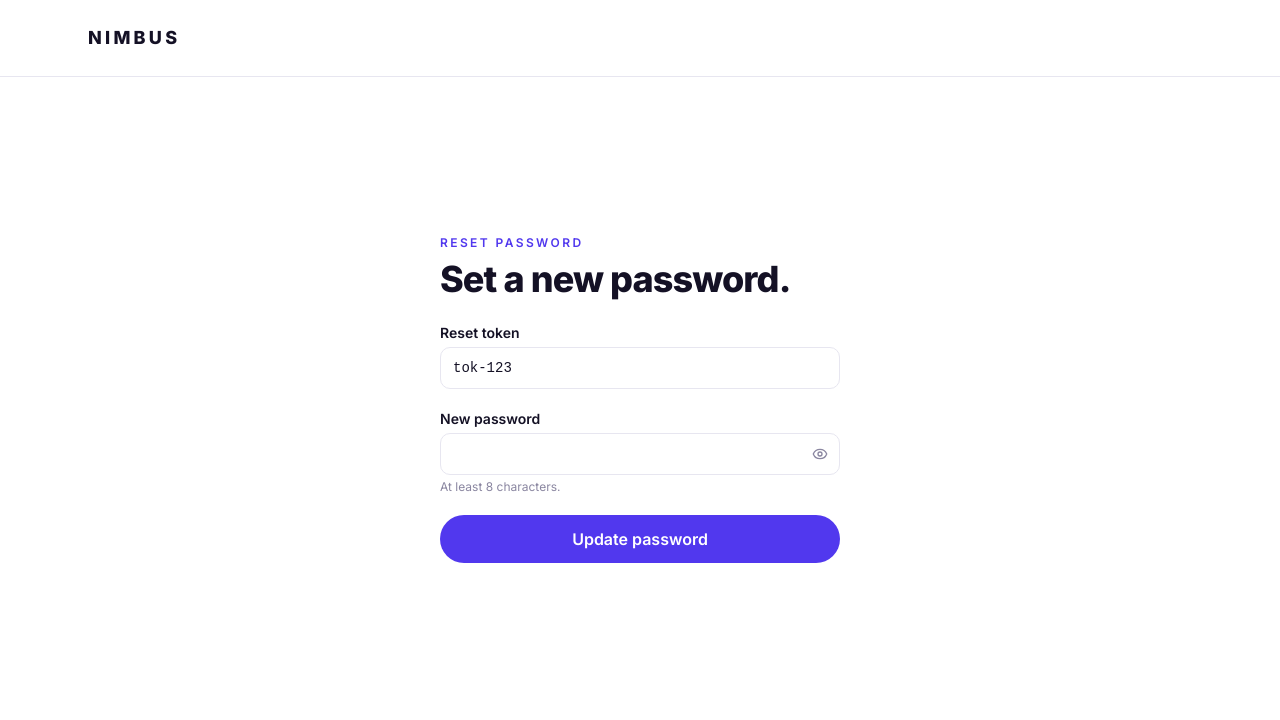
Scenario: PasswordResetConfirmPage › confirms with the token + password and shows the success state
Type "brand-new-pass" into the password field labelled "New password" at (640, 454), box 440,432 -> 840,474
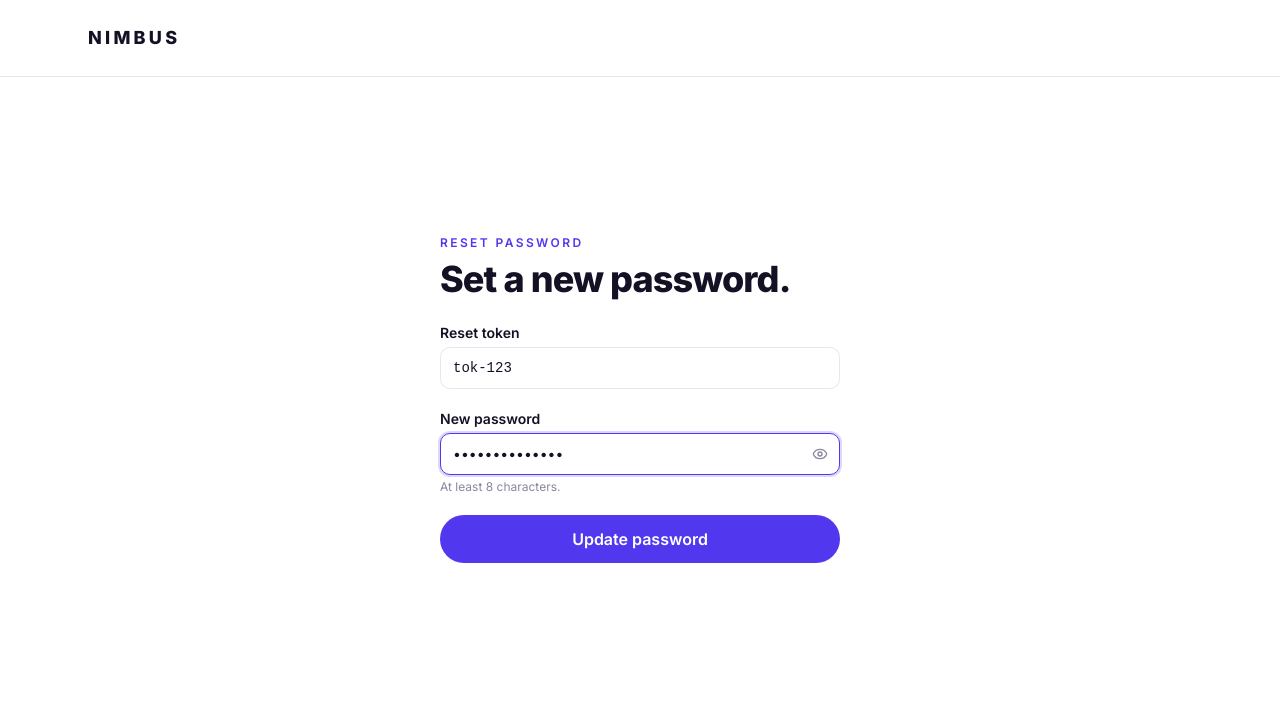
Click the button "Update password" at (640, 538), box 440,514 -> 840,562
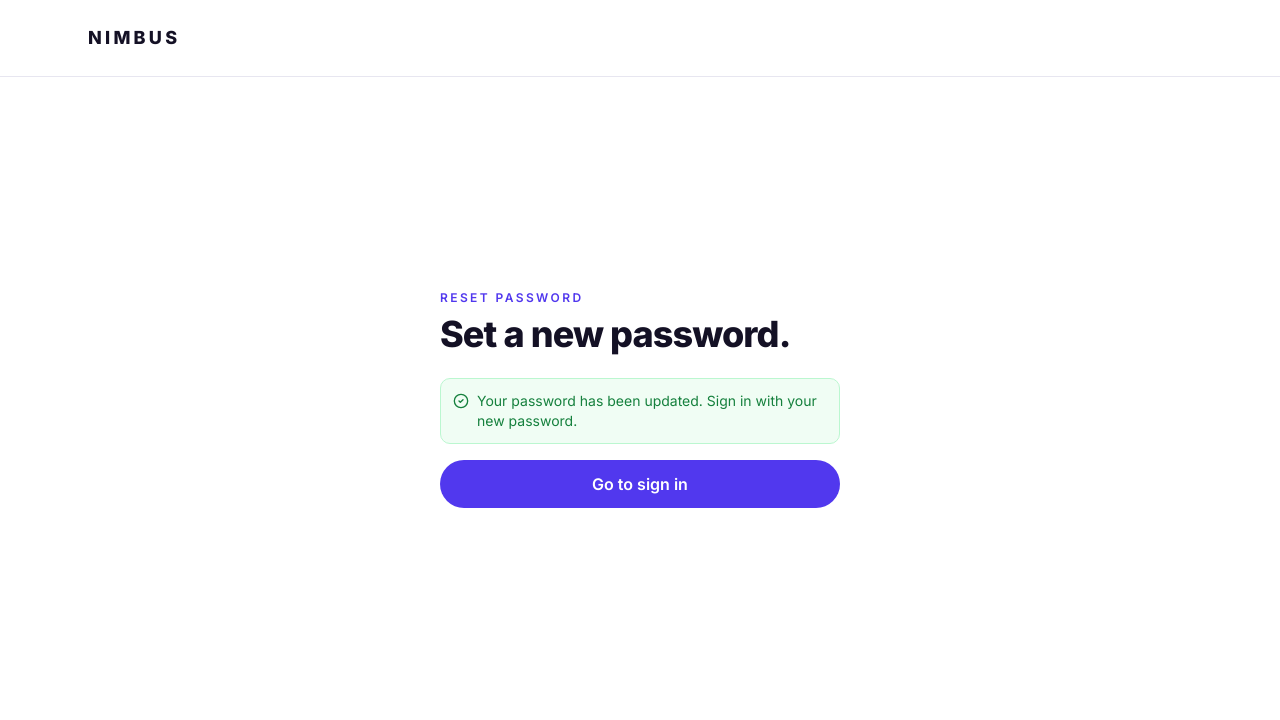
Now the message shows "password has been updated", box 477,392 -> 817,428
